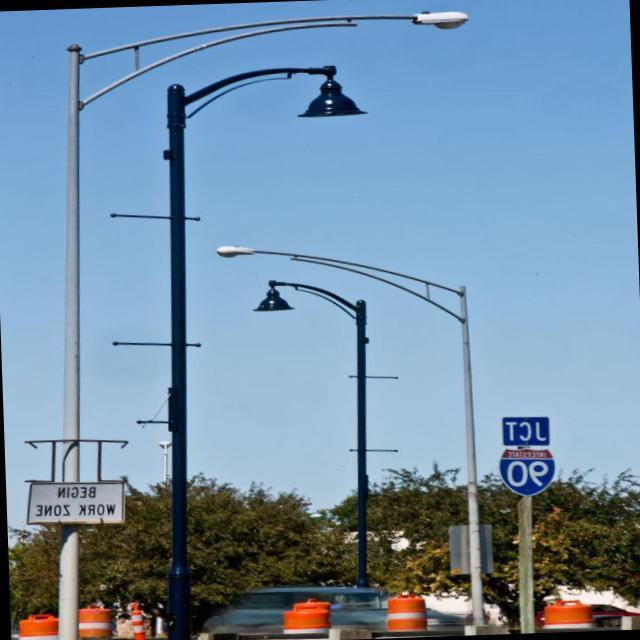off: (188, 230, 336, 352), (290, 8, 510, 76), (283, 40, 388, 156)
